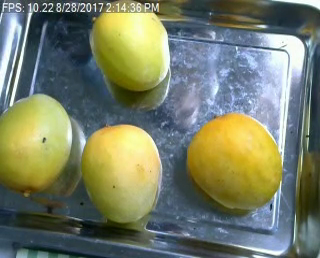Mango: (188, 110, 283, 208), (82, 123, 162, 220), (0, 92, 73, 194), (87, 0, 170, 87)
